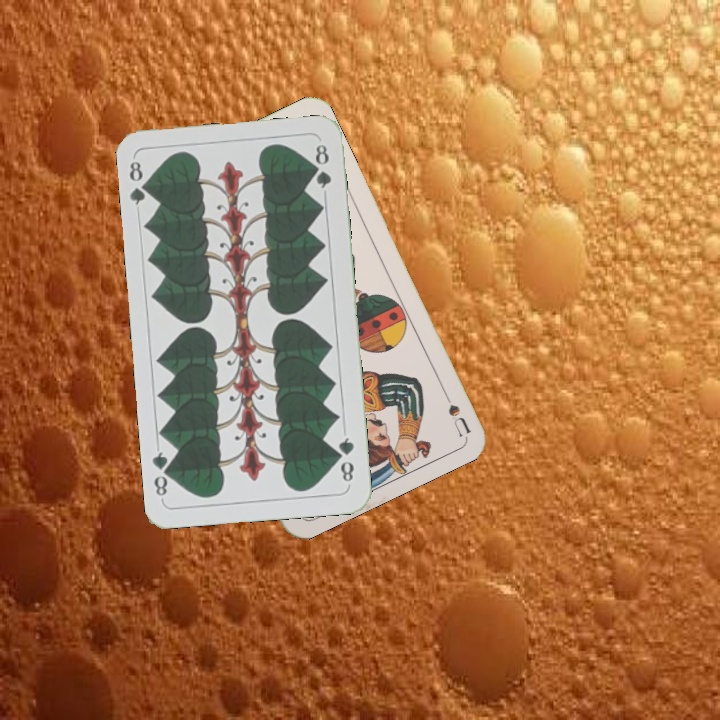G8: (125, 157, 153, 208), (333, 433, 357, 488)
SU: (436, 381, 473, 438)
